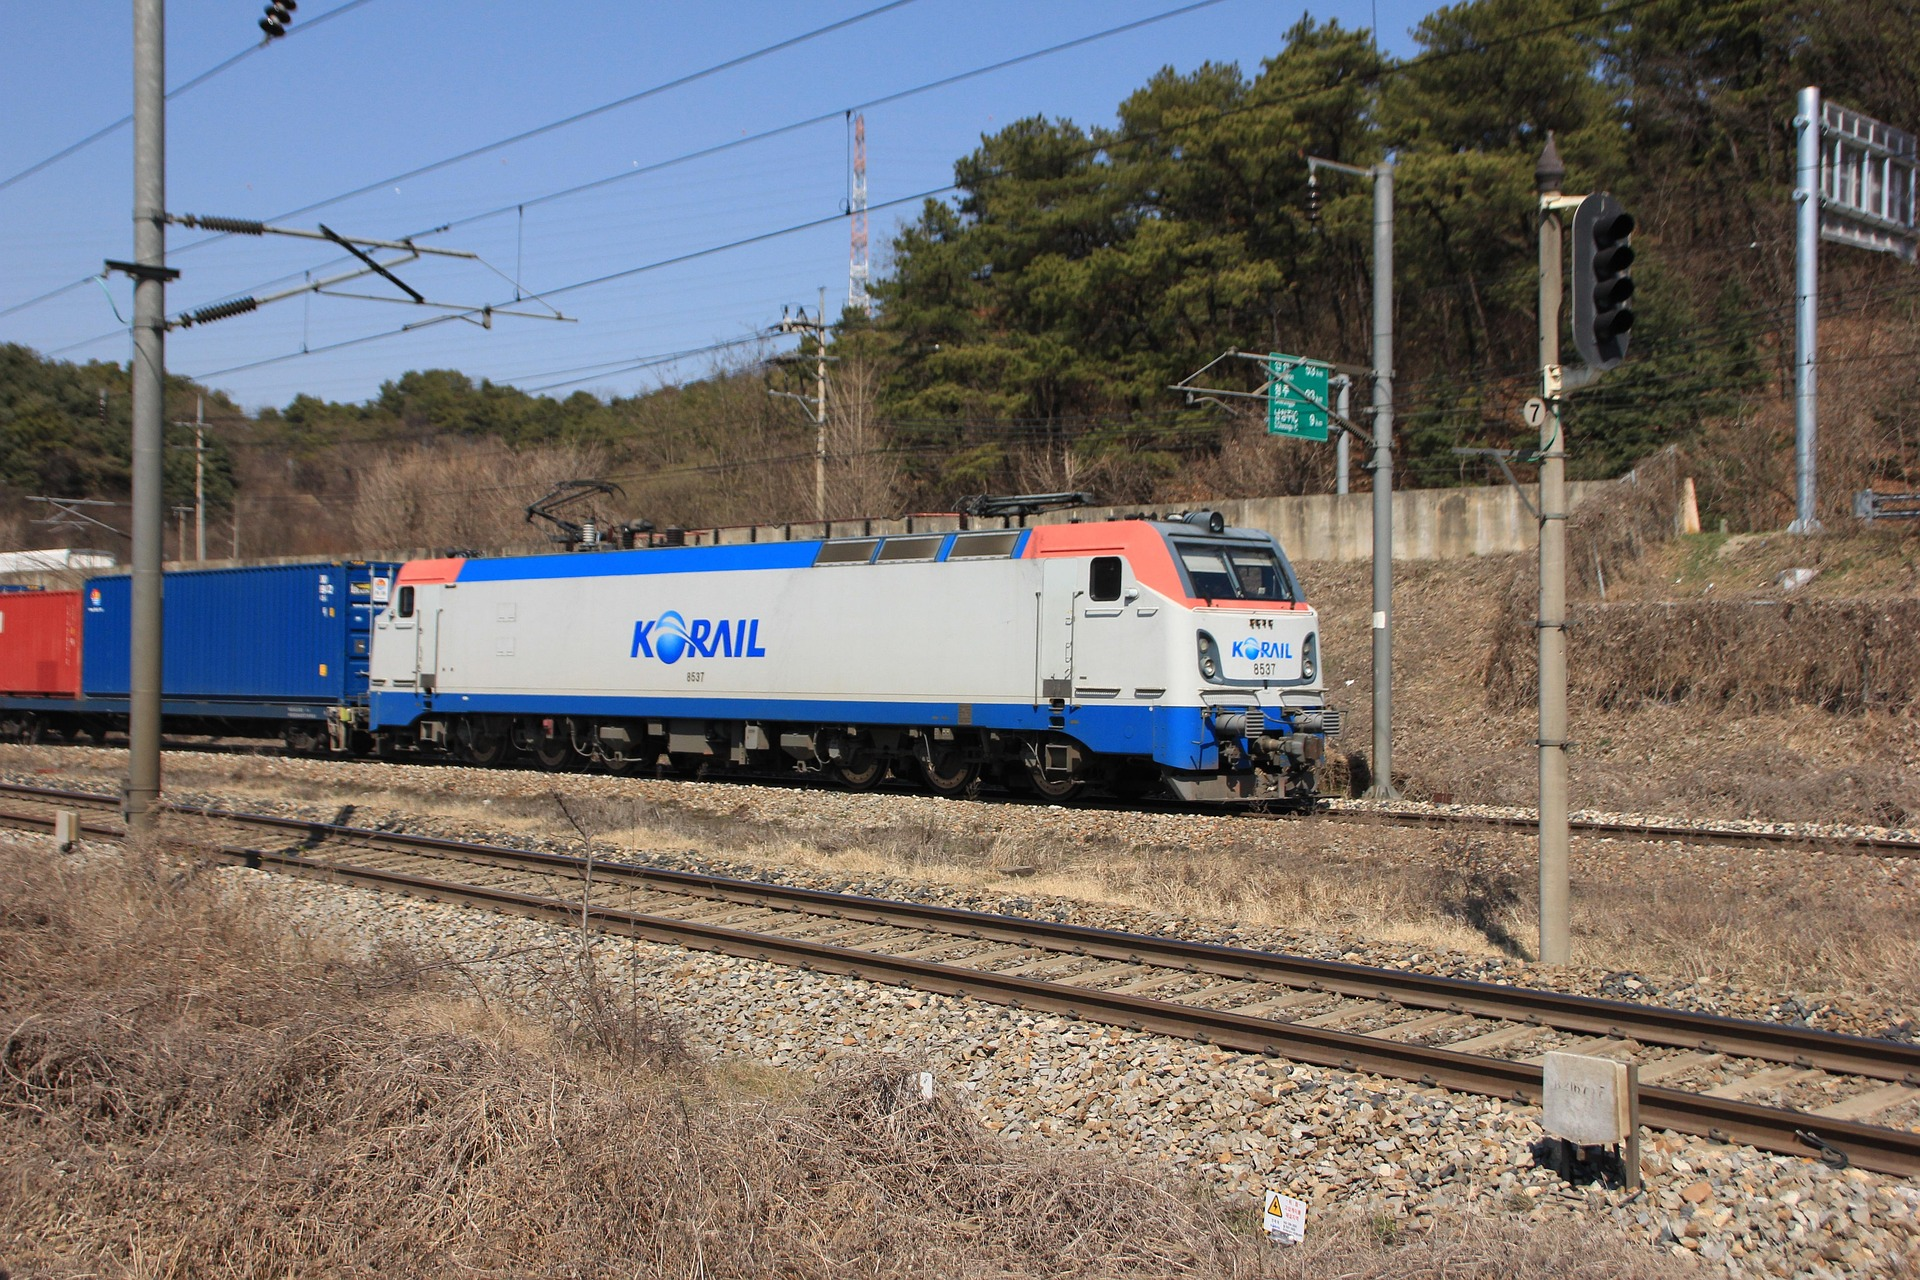train1: (174, 500, 1343, 820)
